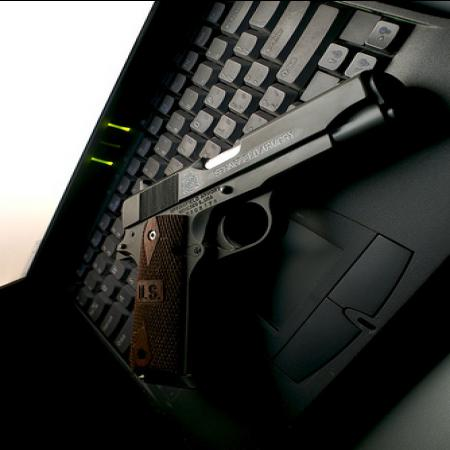Pistol: (123, 70, 410, 385)
